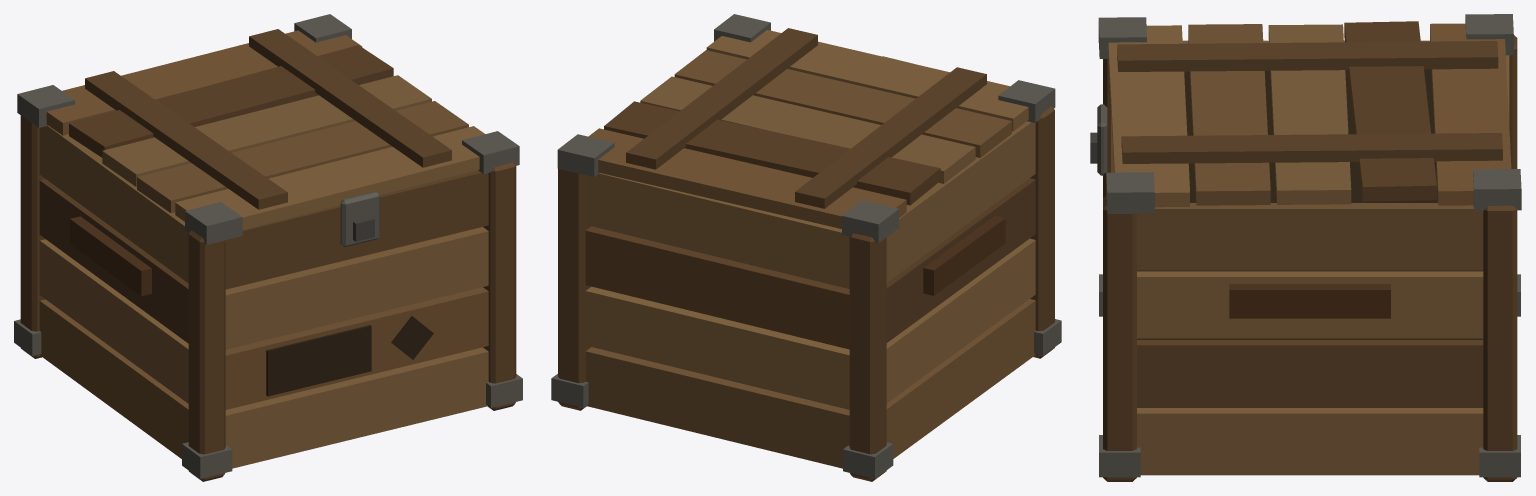
File: caixa.glb
3 views of the same model, side by side, from view 1: azimuth 30°, elevation 25°; view 2: azimuth 150°, elevation 25°; view 3: azimuth 270°, elevation 25° (orthographic). The views are drawn at different scales.
Parts seen in each view (by area): view 1: caixa.001; view 2: caixa.001; view 3: caixa.001.
Part boxes in pixels (x1=…): caixa.001: x1=14, y1=14, x2=522, y2=481; caixa.001: x1=551, y1=14, x2=1061, y2=481; caixa.001: x1=1090, y1=14, x2=1521, y2=481.
Size of the model in its own units: 0.941 by 0.73 by 0.952.
